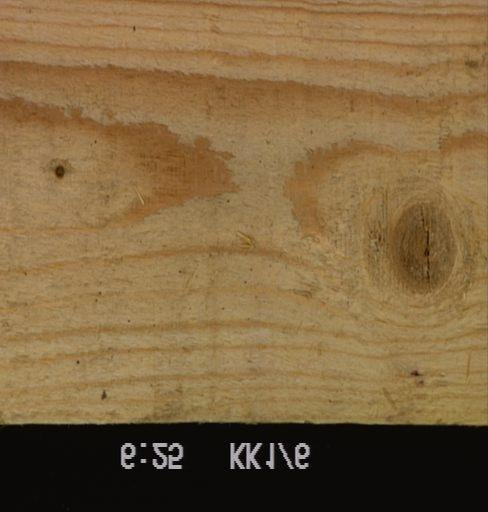small_knot: (49, 162, 69, 181)
sound_knot: (378, 194, 464, 299)
